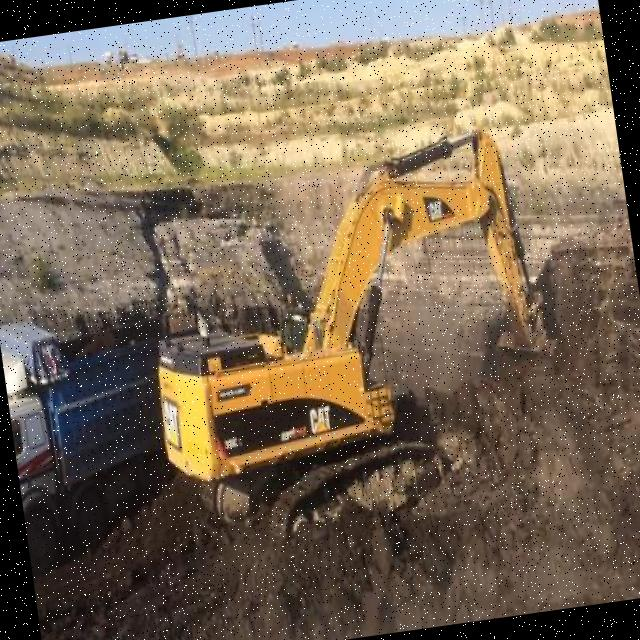Dump Truck: (0, 302, 190, 561)
Excavator: (125, 121, 580, 566)
